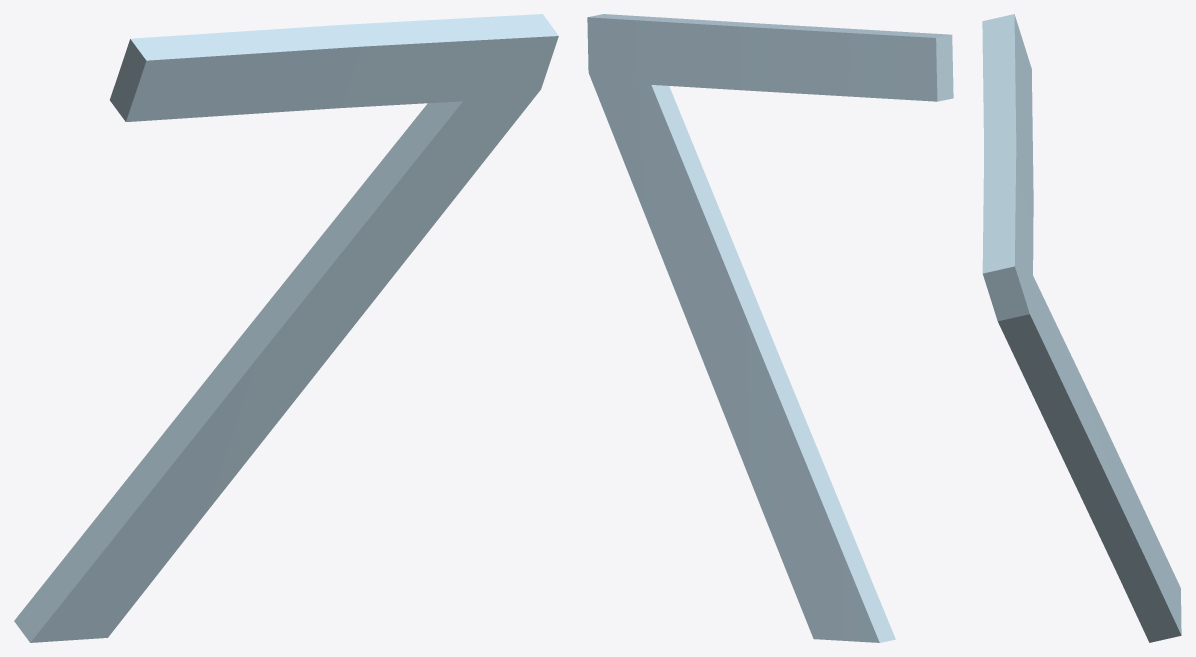
Rendered from Number_7.gltf.
3 renders of one model, left to right at view 1: azimuth 30°, elevation 25°; view 2: azimuth 150°, elevation 25°; view 3: azimuth 270°, elevation 25°, orthographic. The views are drawn at different scales.
Visible parts, largest first — view 1: Sub_3_Cell_2_3_Number_7; view 2: Sub_3_Cell_2_3_Number_7; view 3: Sub_3_Cell_2_3_Number_7.
Part boxes in pixels (<box>): Sub_3_Cell_2_3_Number_7: <box>14,14,558,642</box>; Sub_3_Cell_2_3_Number_7: <box>587,14,953,642</box>; Sub_3_Cell_2_3_Number_7: <box>982,14,1181,642</box>.
Size of the model in its own units: 0.0176 by 0.0255 by 0.00758.
